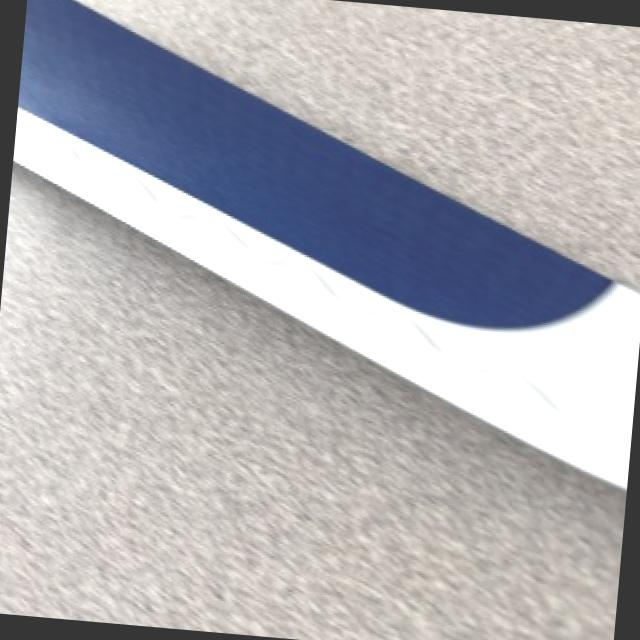healthy: (0, 165, 627, 640), (86, 0, 640, 286)
